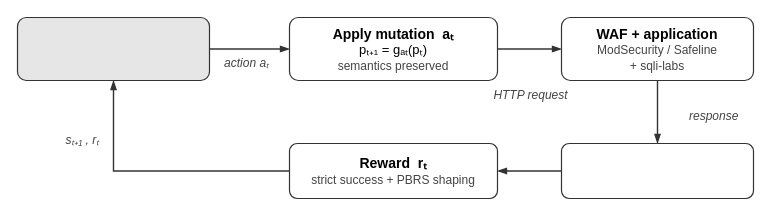
This 772x217 diagram has some shape labels left out. Each missing label, with the centre of its shape:
"Agent policy πθ : sₜ → aₜ MLP 2×64, tanh" goes at pixel 113 48.
"Response status, body" goes at pixel 657 170.
